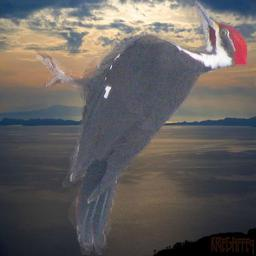Woodpecker: (33, 0, 253, 255)
